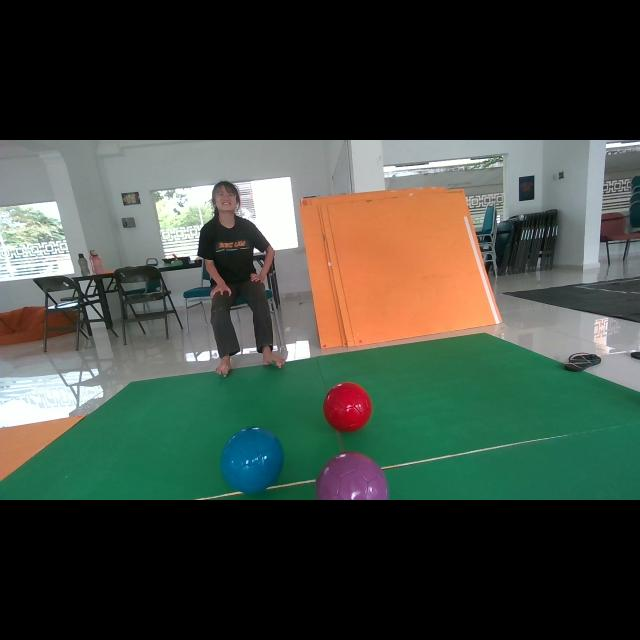B: (221, 428, 284, 494)
P: (315, 451, 388, 500)
R: (322, 382, 372, 432)
